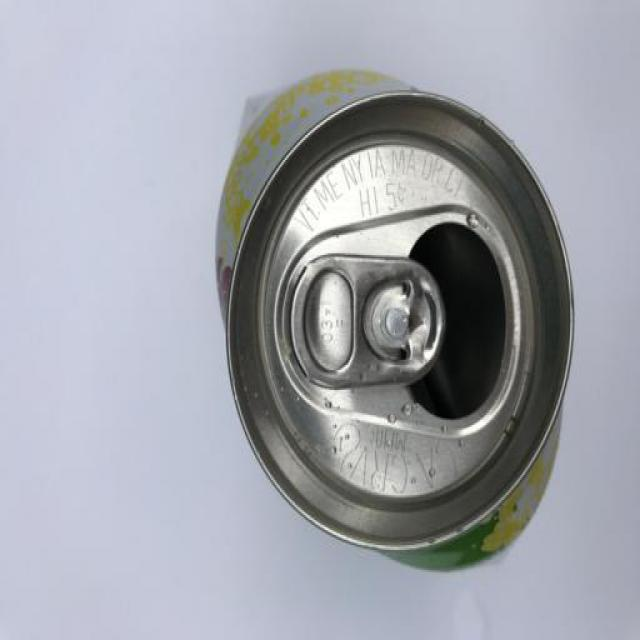metel: (231, 99, 553, 558)
